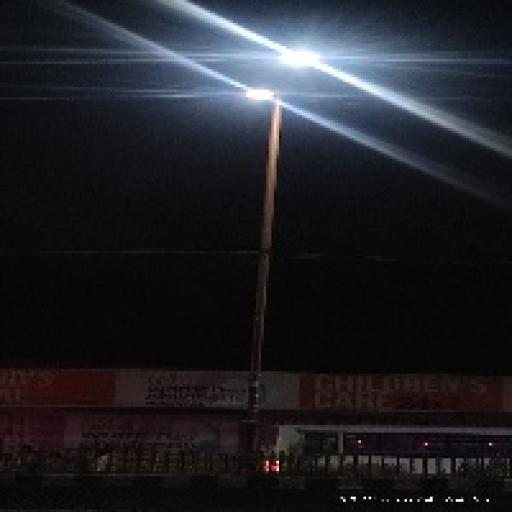Working: (269, 38, 326, 77), (234, 80, 282, 104)
